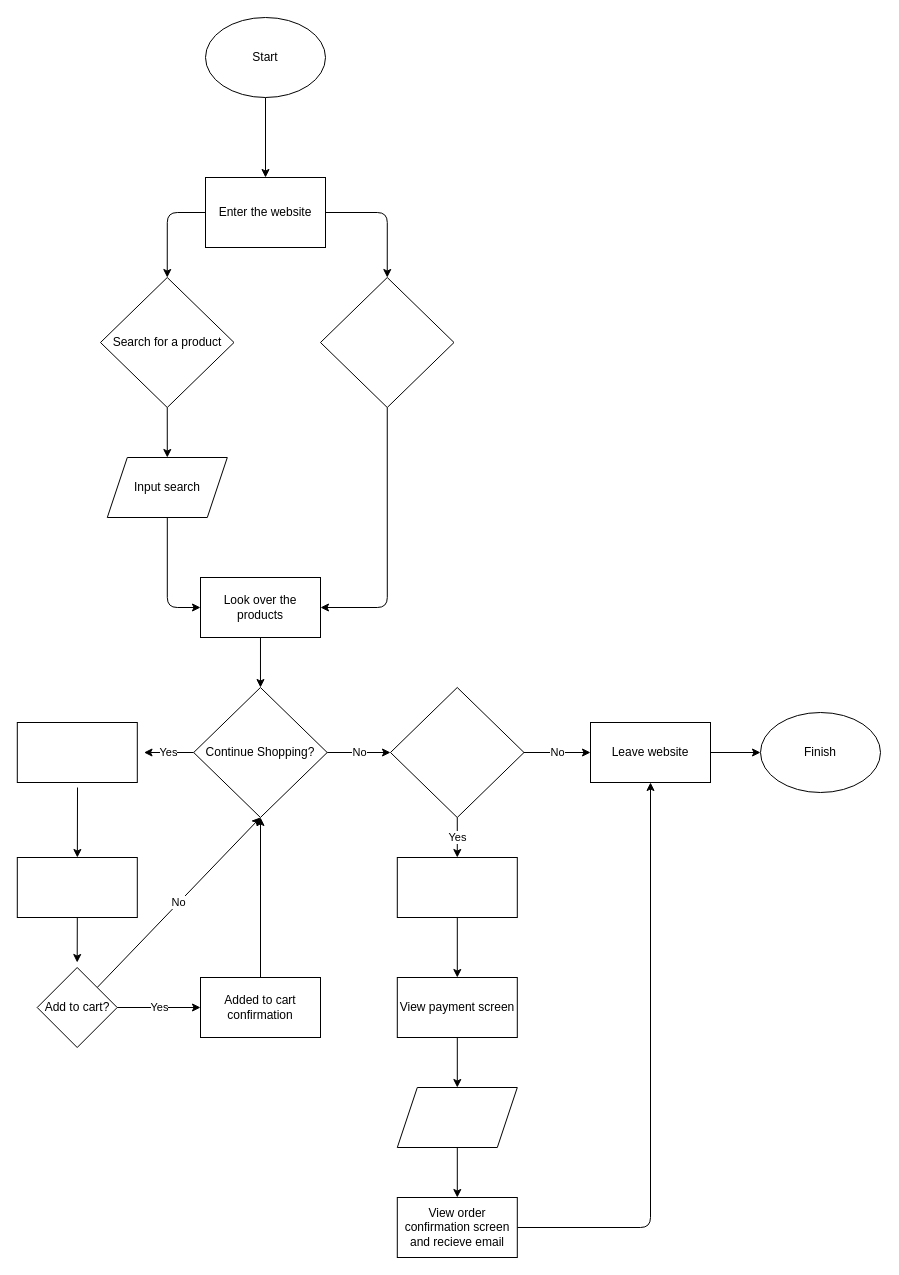
This 899x1275 diagram has some shape labels left out. Each missing label, with the centre of its shape:
Checkout?: (x=457, y=752)
Explore the products on the home page: (x=387, y=342)
Input payment information: (x=456, y=1117)
Open Product's webpage: (x=76, y=887)
View a specific product: (x=76, y=752)
View cart: (x=456, y=887)
